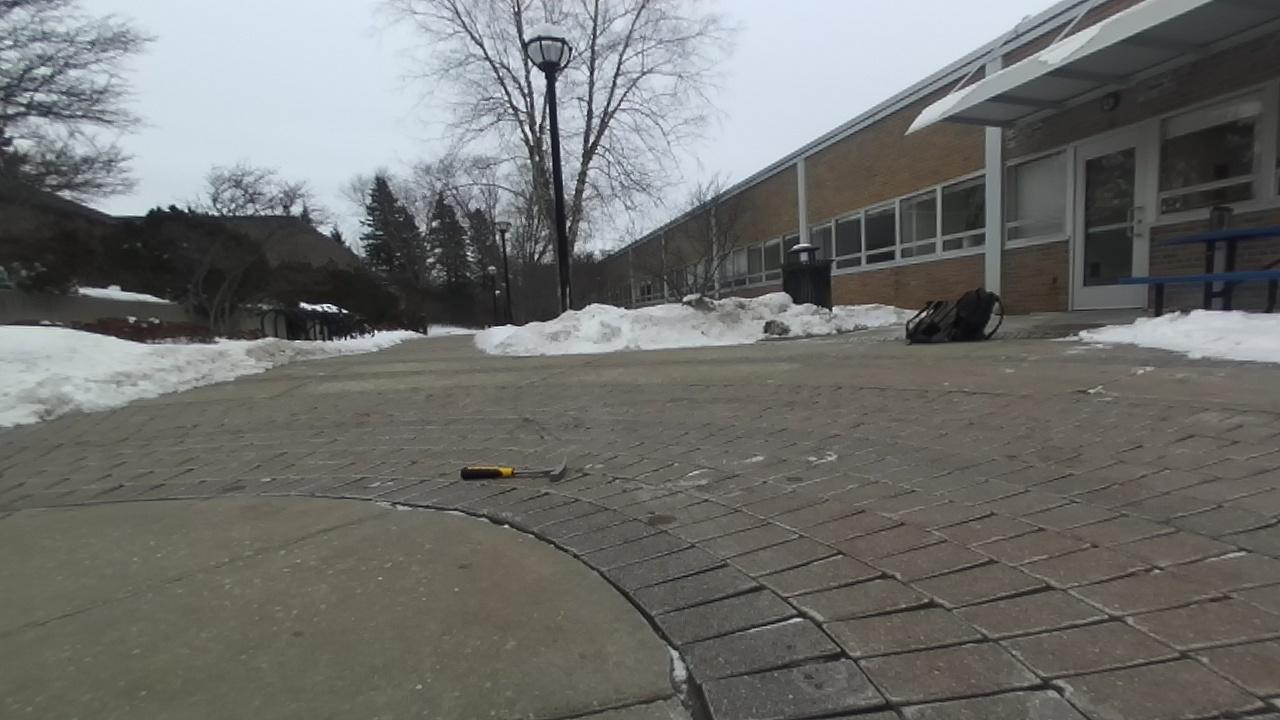pick: (459, 460, 566, 480)
